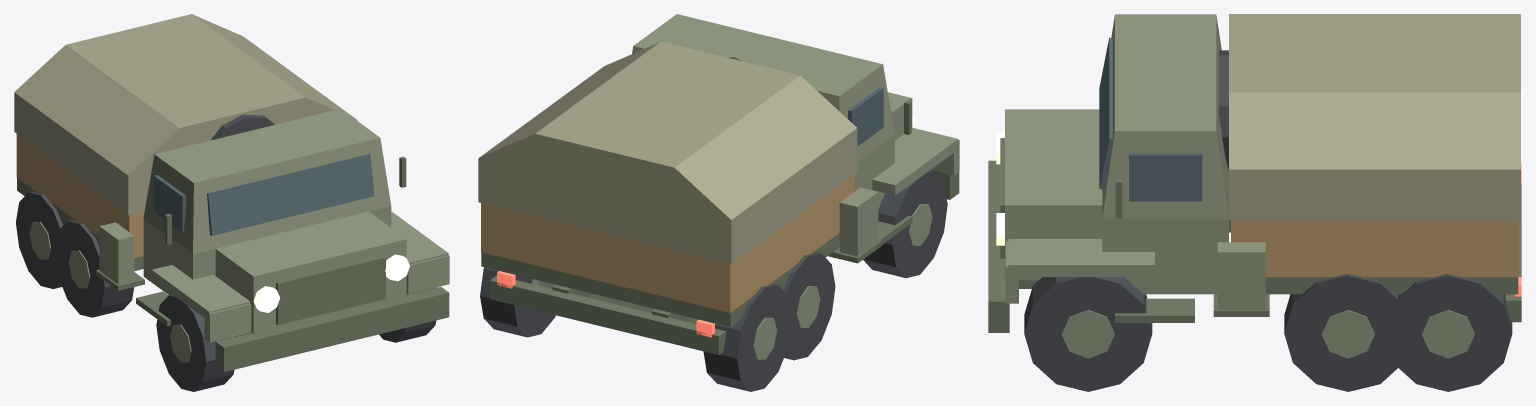
The model's file is camion.glb.
The picture shows the model from 3 angles, left to right: view 1: azimuth 30°, elevation 25°; view 2: azimuth 150°, elevation 25°; view 3: azimuth 270°, elevation 25°; orthographic projection. The views are drawn at different scales.
Visible parts, largest first — view 1: camion; view 2: camion; view 3: camion.
Part boxes in pixels (x1,y1,x2,y2): camion: (14, 14, 449, 391); camion: (478, 14, 959, 391); camion: (988, 14, 1521, 391).
Size of the model in its own units: 2.9 by 2.2 by 4.
